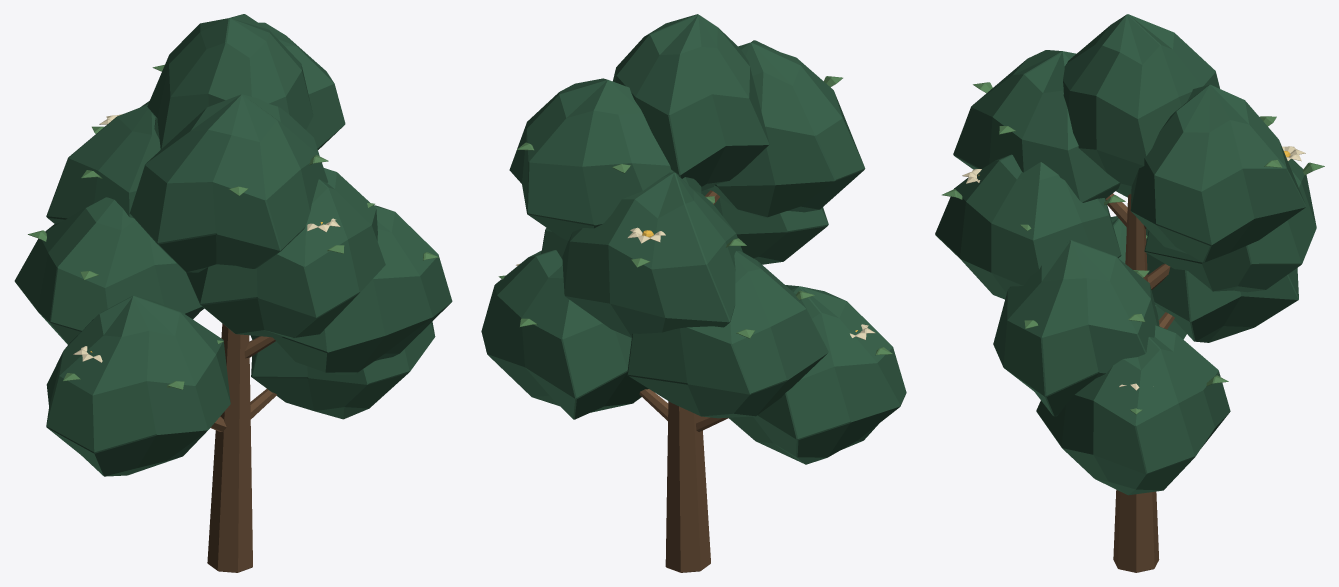
Rendered from b08_southern_magnolia.glb.
3 views of the same model, side by side, from view 1: azimuth 30°, elevation 25°; view 2: azimuth 150°, elevation 25°; view 3: azimuth 270°, elevation 25° (orthographic).
Visible parts, largest first — view 1: b08_southern_magnolia; view 2: b08_southern_magnolia; view 3: b08_southern_magnolia.
Boxes of the visible parts, box(x1,y1,x2,y2) form: b08_southern_magnolia: box(14, 14, 452, 572); b08_southern_magnolia: box(481, 14, 906, 572); b08_southern_magnolia: box(935, 14, 1324, 572).
Size of the model in its own units: 3.71 by 4.87 by 3.15.
